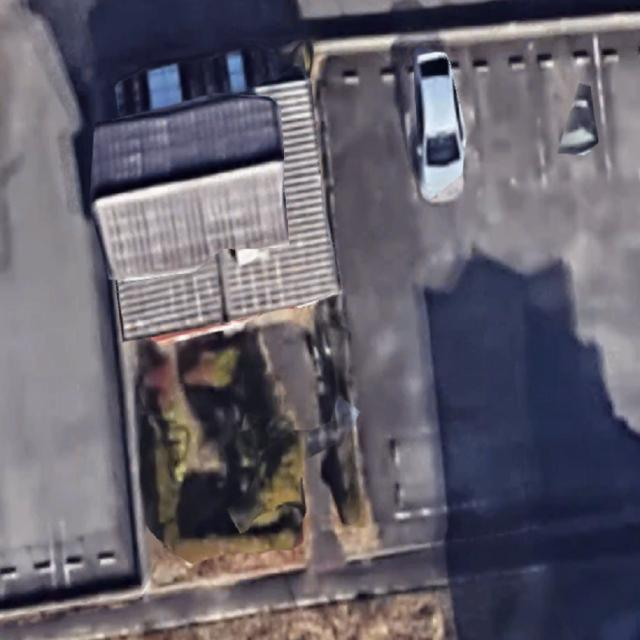Batiment: (91, 80, 339, 340)
